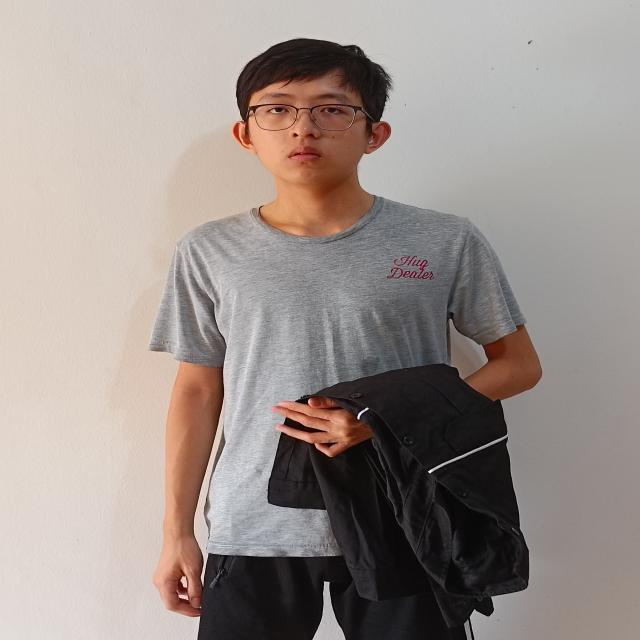person_without_labcoat: (150, 39, 541, 640)
